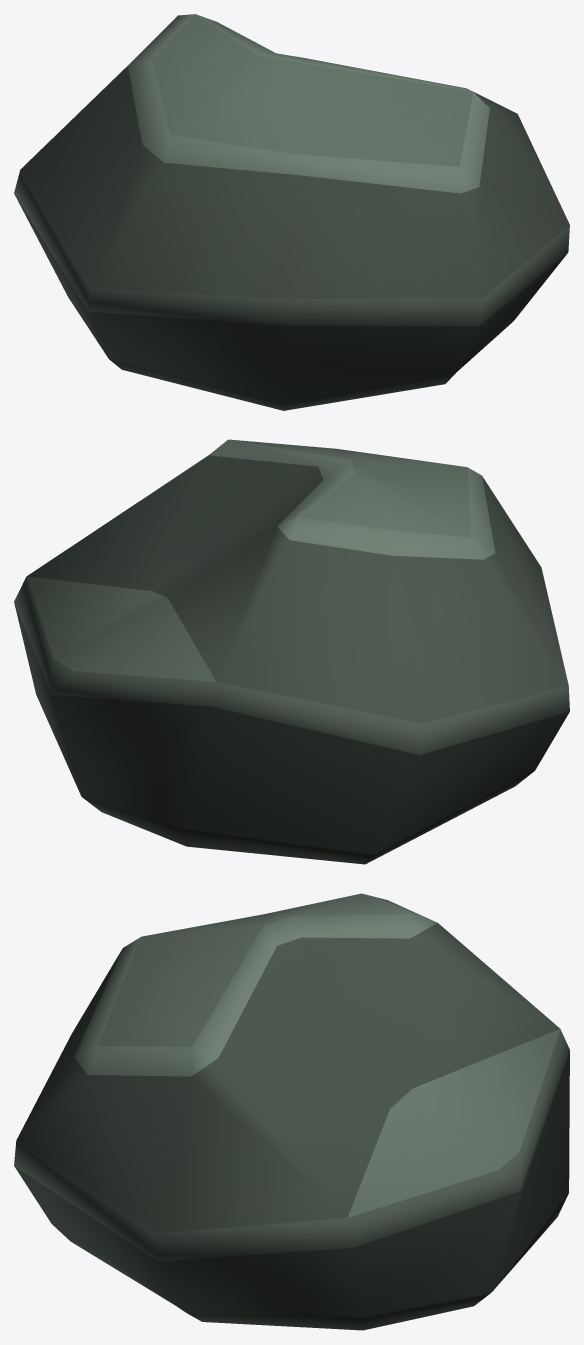
Rendered from stone_5.fbx.
The picture shows the model from 3 angles, top to bottom: view 1: azimuth 30°, elevation 25°; view 2: azimuth 150°, elevation 25°; view 3: azimuth 270°, elevation 25°; orthographic projection. The views are drawn at different scales.
Visible parts, largest first — view 1: stone_5; view 2: stone_5; view 3: stone_5.
Boxes of the visible parts, x1,y1,x2,y2 form: stone_5: [14, 14, 569, 410]; stone_5: [14, 439, 569, 864]; stone_5: [14, 893, 569, 1330].
Bounding box in the file's own units: 115 × 79.89 × 110.
Materials: 1 (1 with a texture image).
